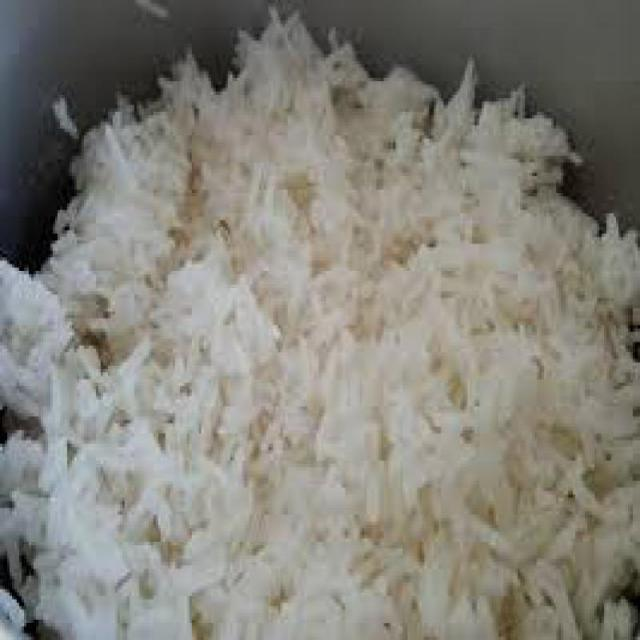Chicken -Chicken Inasal-: (0, 10, 639, 639)
